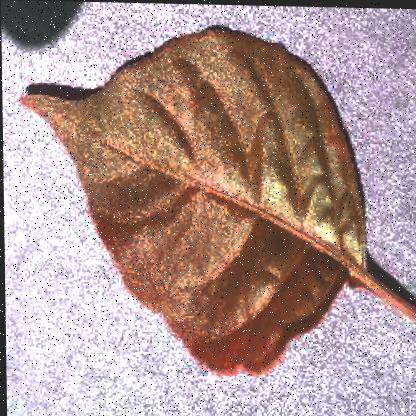Healthy: (15, 20, 415, 384)
